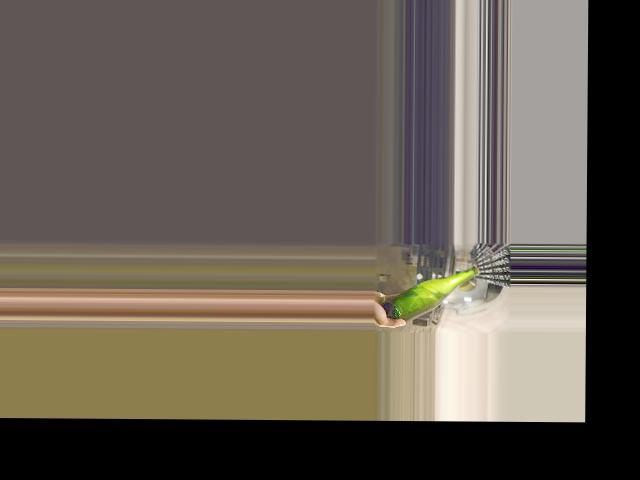beer: (383, 263, 480, 325)
